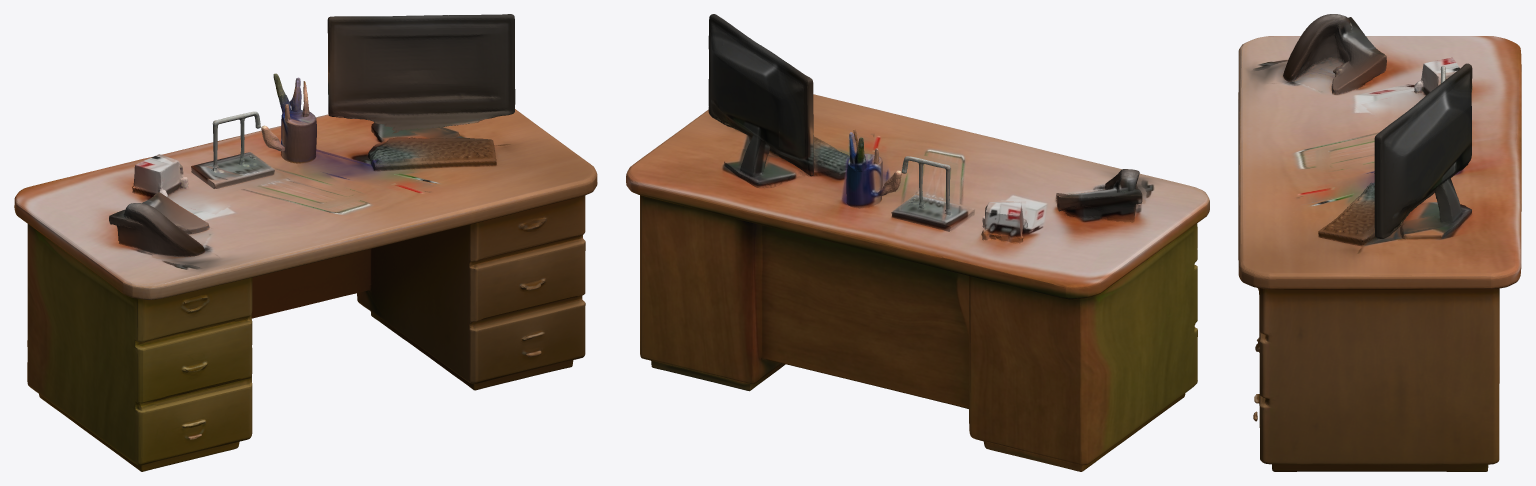
File: manager_desk.glb
3 views of the same model, side by side, from view 1: azimuth 30°, elevation 25°; view 2: azimuth 150°, elevation 25°; view 3: azimuth 270°, elevation 25° (orthographic). The views are drawn at different scales.
Parts seen in each view (by area): view 1: geometry_0; view 2: geometry_0; view 3: geometry_0.
Part boxes in pixels (box(x1,y1,x2,y2)): geometry_0: box(14, 14, 597, 471); geometry_0: box(626, 14, 1209, 471); geometry_0: box(1238, 14, 1521, 471).
Size of the model in its own units: 1 by 0.6453 by 0.4978.
1 material, 1 textured.
